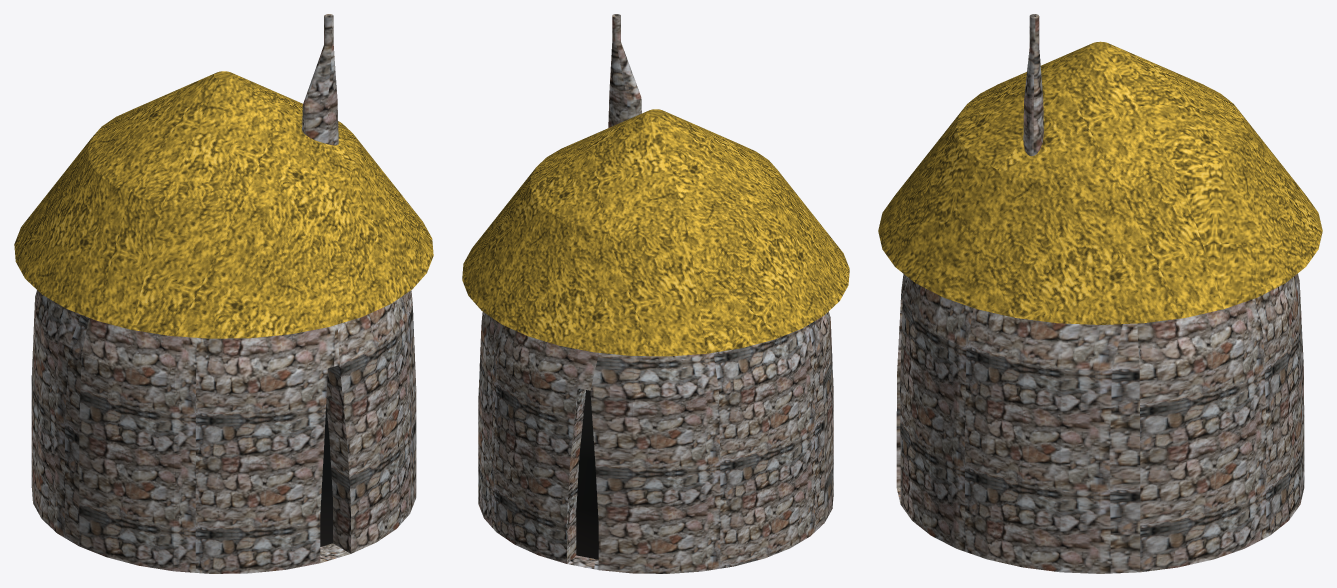
Rendered from hovel.obj.
The picture shows the model from 3 angles, left to right: view 1: azimuth 30°, elevation 25°; view 2: azimuth 150°, elevation 25°; view 3: azimuth 270°, elevation 25°; orthographic projection. The views are drawn at different scales.
Visible parts, largest first — view 1: Cylinder, Cylinder.001; view 2: Cylinder, Cylinder.001; view 3: Cylinder, Cylinder.001.
Boxes of the visible parts, box(x1,y1,x2,y2) form: Cylinder: box(31, 14, 416, 573); Cylinder.001: box(14, 71, 433, 338); Cylinder: box(478, 14, 833, 573); Cylinder.001: box(462, 109, 849, 356); Cylinder: box(896, 14, 1304, 573); Cylinder.001: box(878, 41, 1322, 324).
Bounding box in the file's own units: 0.1561 × 0.1986 × 0.1561.
Materials: 2 (2 with a texture image).
